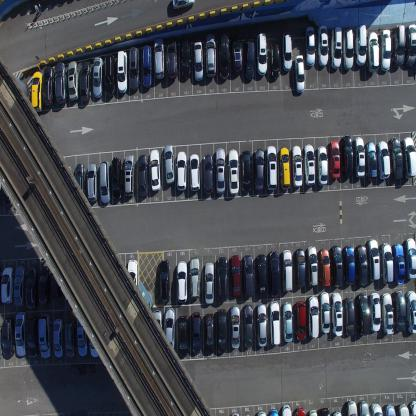car: (389, 136, 403, 181), (38, 314, 52, 358), (392, 24, 406, 68), (356, 292, 370, 335), (380, 293, 394, 336), (402, 136, 416, 179), (227, 149, 240, 195), (216, 257, 229, 302), (110, 156, 123, 201), (278, 146, 291, 190), (303, 143, 316, 187), (367, 30, 380, 74), (218, 35, 230, 82), (214, 147, 226, 194), (268, 250, 280, 297), (376, 140, 390, 180), (54, 61, 67, 104), (30, 70, 43, 113), (63, 267, 76, 310), (216, 308, 228, 354), (269, 300, 281, 346), (126, 258, 138, 304), (14, 312, 26, 358), (331, 290, 343, 336), (393, 290, 406, 332), (51, 256, 63, 301), (380, 27, 392, 72), (294, 300, 307, 341), (128, 45, 139, 93), (158, 258, 170, 302), (242, 254, 254, 298), (148, 148, 160, 192), (137, 154, 149, 198), (308, 295, 320, 339), (256, 32, 268, 76), (342, 27, 354, 71), (266, 144, 277, 191), (229, 254, 241, 297), (104, 53, 116, 96), (79, 60, 91, 103), (76, 314, 88, 357), (25, 266, 37, 309), (26, 315, 38, 358), (316, 24, 328, 67), (330, 27, 342, 70), (99, 159, 110, 205), (67, 60, 79, 102), (38, 264, 50, 306), (355, 24, 367, 66), (229, 304, 240, 349), (205, 33, 216, 78), (256, 302, 267, 347), (164, 307, 175, 352), (405, 289, 416, 334), (179, 39, 191, 80), (294, 247, 306, 288), (365, 140, 377, 181), (189, 256, 200, 300), (153, 36, 164, 80), (242, 304, 253, 348), (241, 150, 252, 194), (253, 148, 264, 192), (124, 153, 135, 197), (291, 144, 302, 188), (0, 266, 13, 303), (64, 318, 76, 358), (52, 318, 64, 358), (369, 292, 381, 332), (316, 146, 328, 186), (329, 139, 341, 179), (176, 260, 187, 303), (203, 153, 214, 196), (244, 38, 255, 81), (256, 253, 267, 296), (281, 249, 292, 292), (92, 57, 103, 100), (89, 314, 100, 357), (342, 135, 353, 178), (191, 310, 202, 352), (166, 38, 177, 80), (176, 150, 187, 192), (178, 314, 189, 356), (231, 34, 242, 76), (43, 64, 54, 106), (74, 162, 85, 204), (14, 264, 25, 306), (3, 316, 14, 358), (282, 301, 293, 343), (354, 136, 365, 178), (164, 143, 175, 184), (204, 313, 215, 354), (86, 161, 97, 202), (344, 296, 355, 337), (281, 31, 292, 72), (142, 44, 152, 89), (204, 261, 214, 305), (117, 50, 127, 94), (151, 309, 162, 349), (406, 23, 416, 67), (320, 291, 330, 334), (294, 54, 305, 93), (193, 40, 203, 82), (305, 25, 315, 67), (189, 154, 200, 192), (269, 42, 280, 79), (172, 0, 195, 11), (369, 402, 383, 415), (345, 400, 357, 415), (358, 400, 369, 416), (384, 403, 396, 415), (397, 403, 409, 415), (0, 322, 3, 361), (281, 404, 291, 415), (294, 405, 305, 415), (410, 398, 416, 416), (319, 407, 330, 415), (308, 408, 318, 416), (256, 408, 267, 415), (269, 408, 278, 416), (332, 409, 342, 415), (229, 411, 240, 415)
